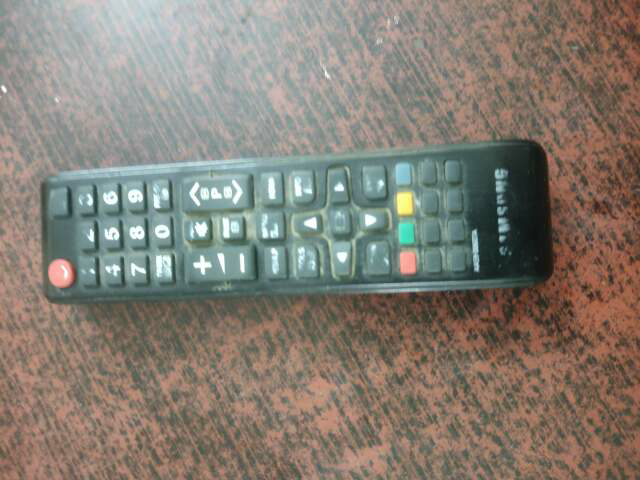remote: (17, 124, 568, 327)
